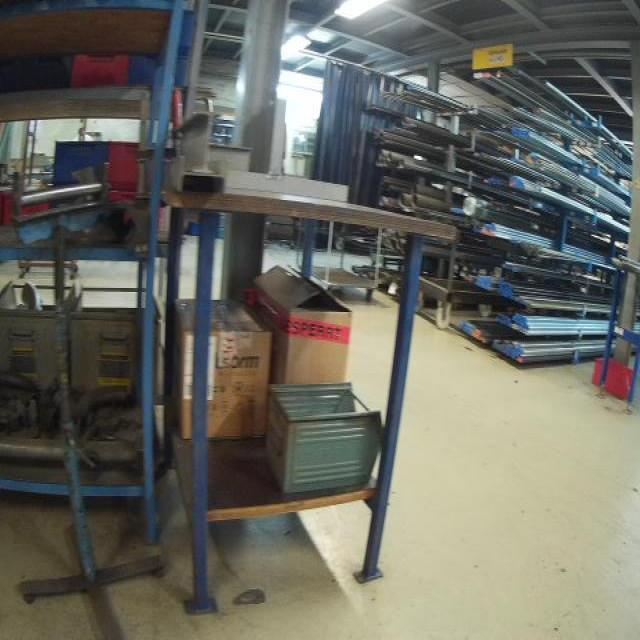small_load_carrier: (53, 137, 108, 192), (588, 347, 637, 398), (73, 55, 127, 85), (106, 133, 134, 186)
